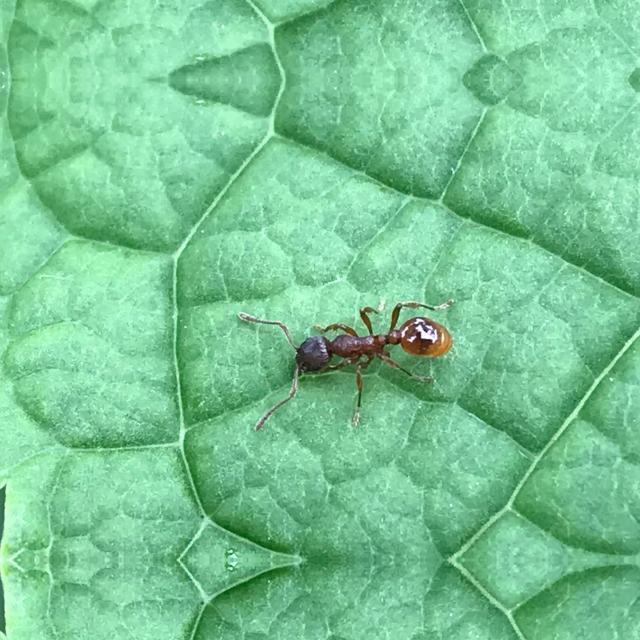Myrmica: (260, 277, 430, 418)
